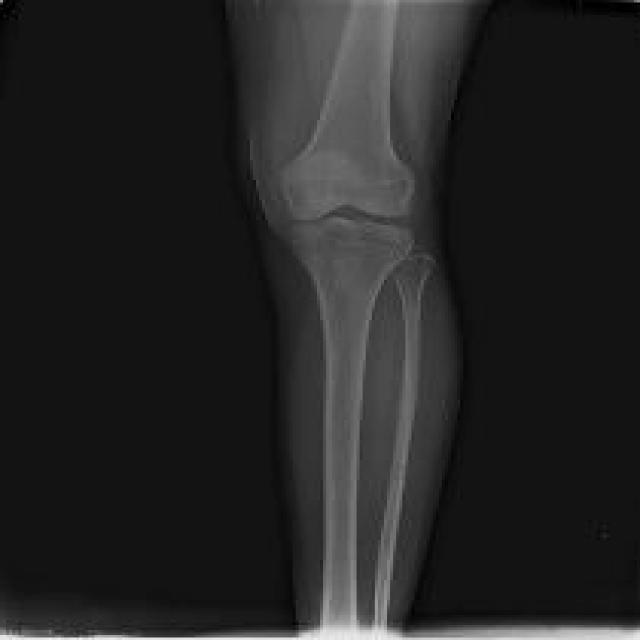normal: (282, 0, 437, 632)
